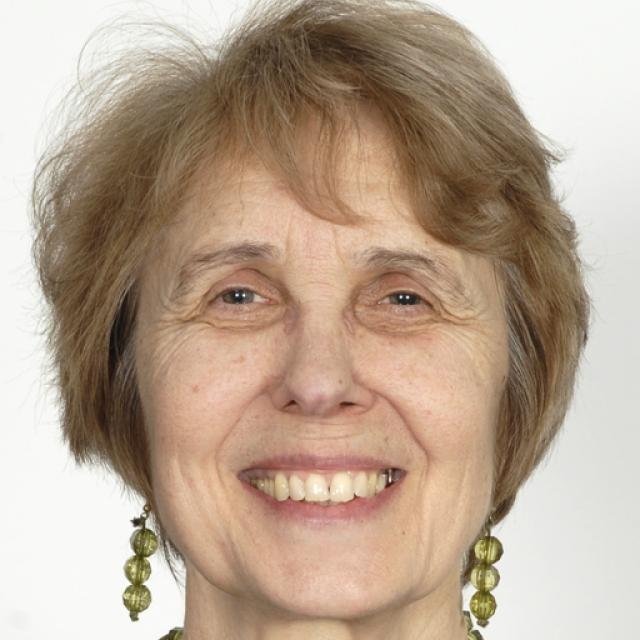Acne: (265, 367, 283, 384)
Dark Circle: (206, 303, 290, 333), (354, 307, 434, 336)
Wrinkle: (214, 387, 269, 497), (376, 388, 430, 477)
